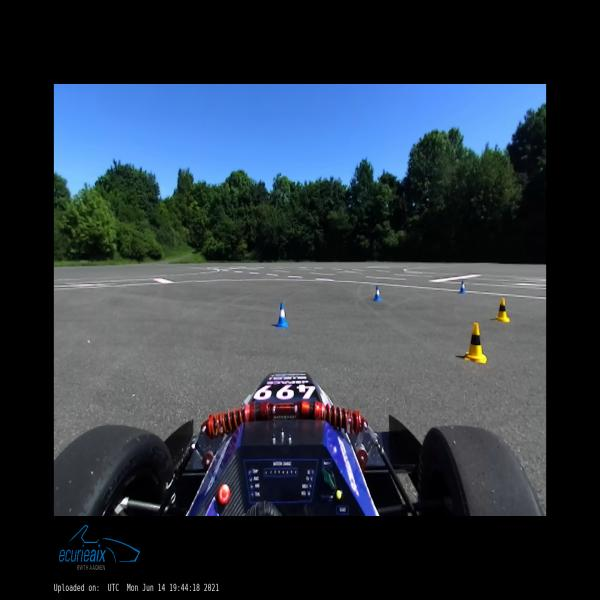blue_cone: (276, 302, 288, 327), (373, 286, 382, 301), (459, 280, 466, 294)
yellow_cone: (465, 322, 487, 364), (495, 298, 510, 323)
